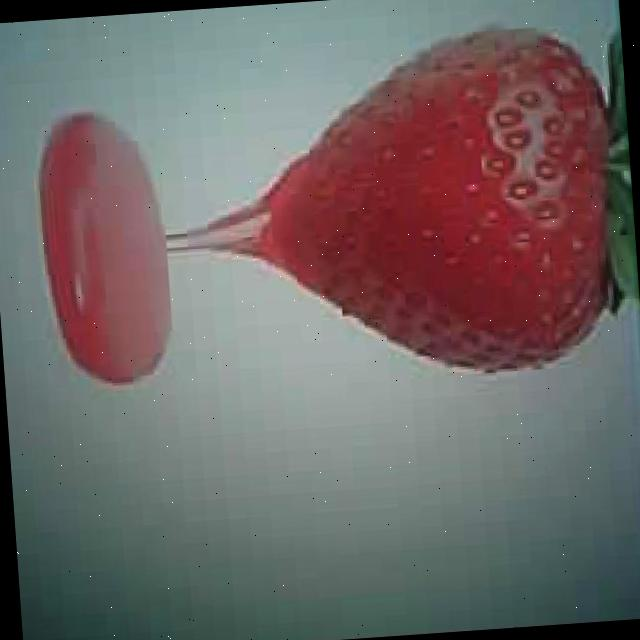strawberry: (245, 20, 632, 389)
